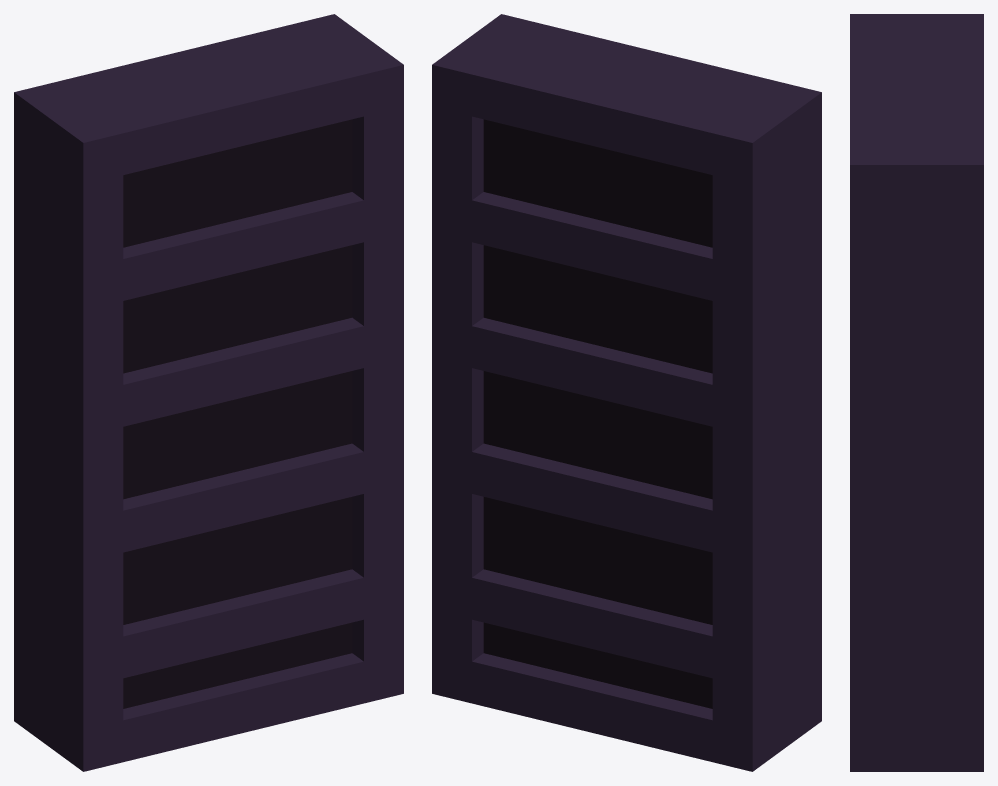
File: Flood Door.glb
3 views of the same model, side by side, from view 1: azimuth 30°, elevation 25°; view 2: azimuth 150°, elevation 25°; view 3: azimuth 270°, elevation 25° (orthographic). The views are drawn at different scales.
Visible parts, largest first — view 1: generated(Clone); view 2: generated(Clone); view 3: generated(Clone).
Part boxes in pixels (left/top/right/bottom): generated(Clone): left=14, top=14, right=403, bottom=771; generated(Clone): left=432, top=14, right=821, bottom=771; generated(Clone): left=850, top=14, right=983, bottom=771.
Bounding box in the file's own units: 8 × 15 × 3.
1 material, 1 textured.
